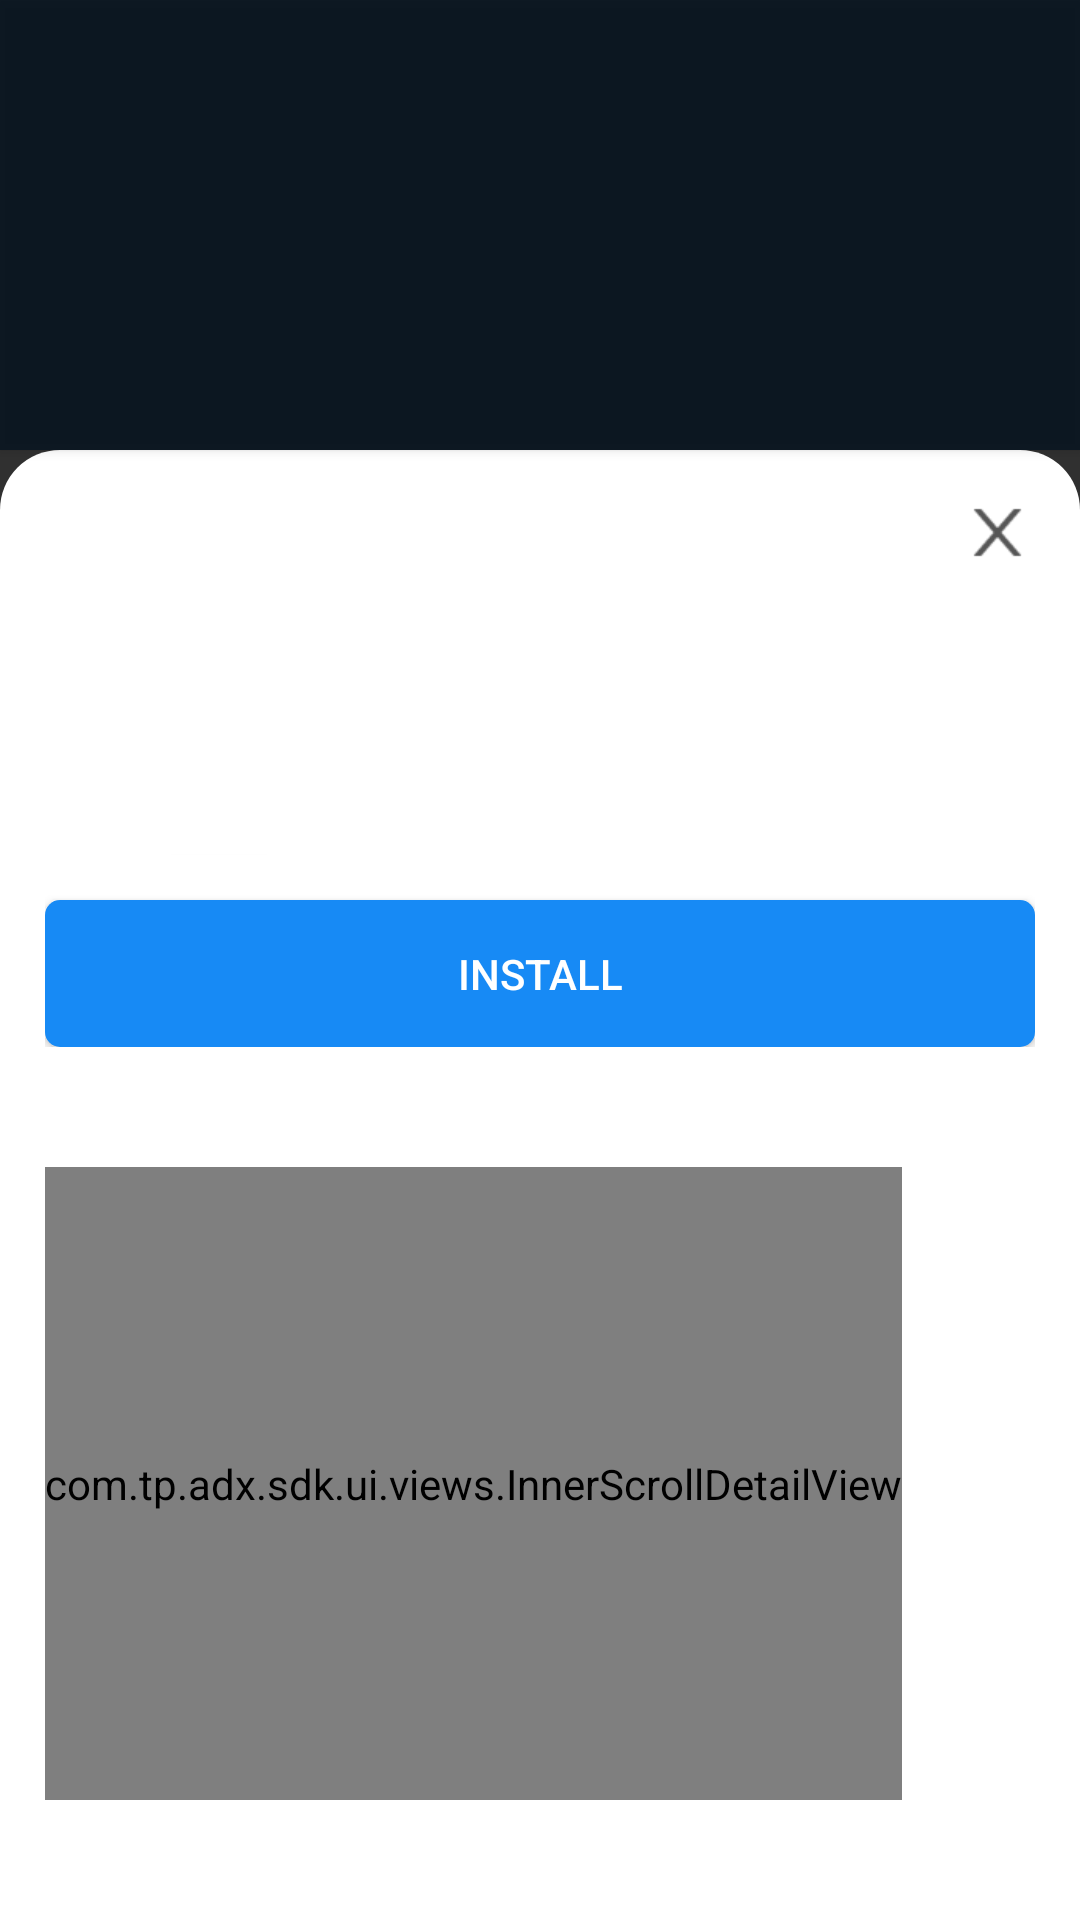

Named icons in this screenshot (1080 x 1920) and their centers, [x,y]:
detail close: [997,532]
